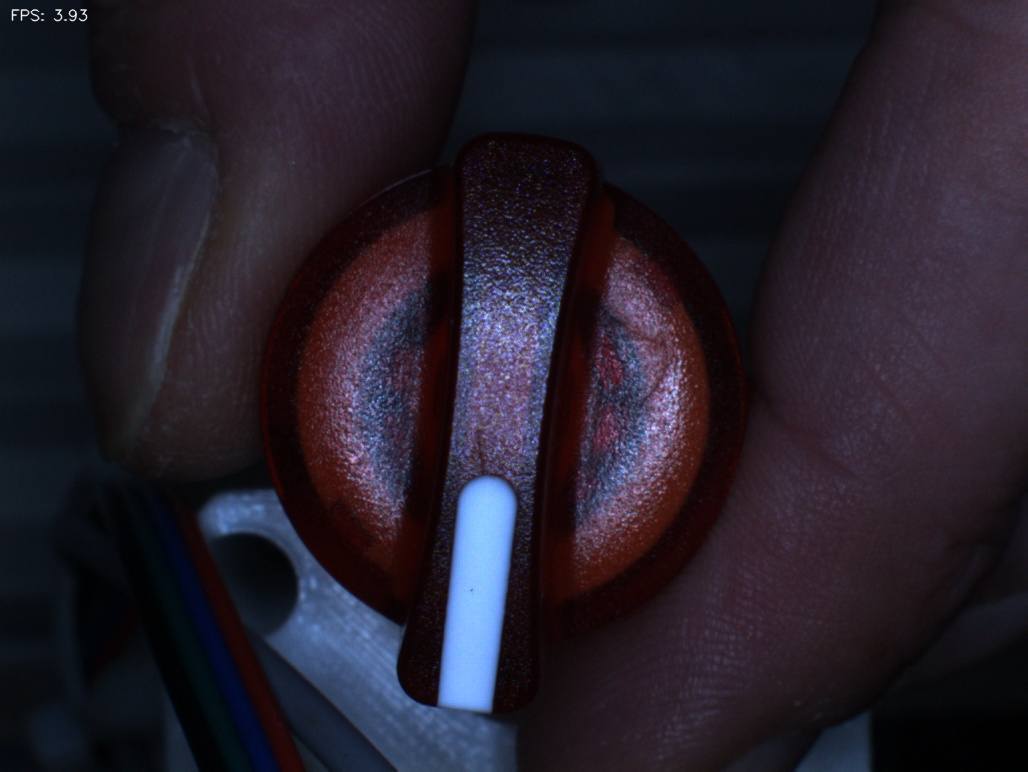PointNoir: (442, 554, 506, 623)
